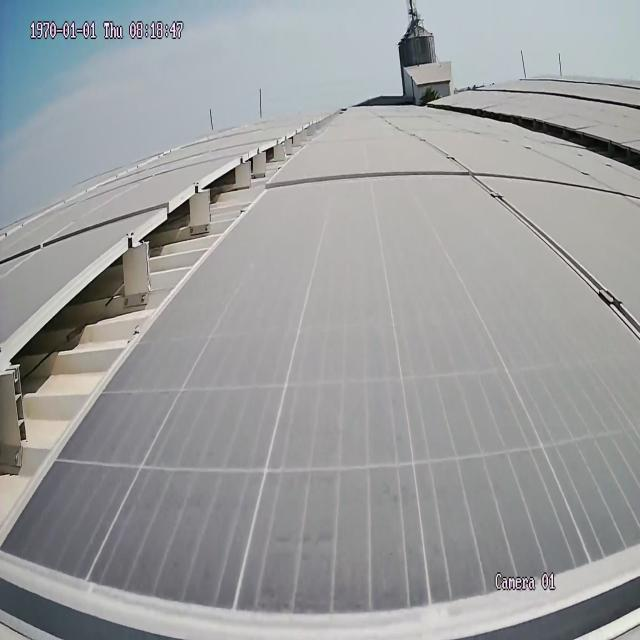interior panel: (0, 541, 640, 640), (471, 185, 640, 343)
outher panel: (0, 115, 335, 535), (468, 107, 639, 175)
